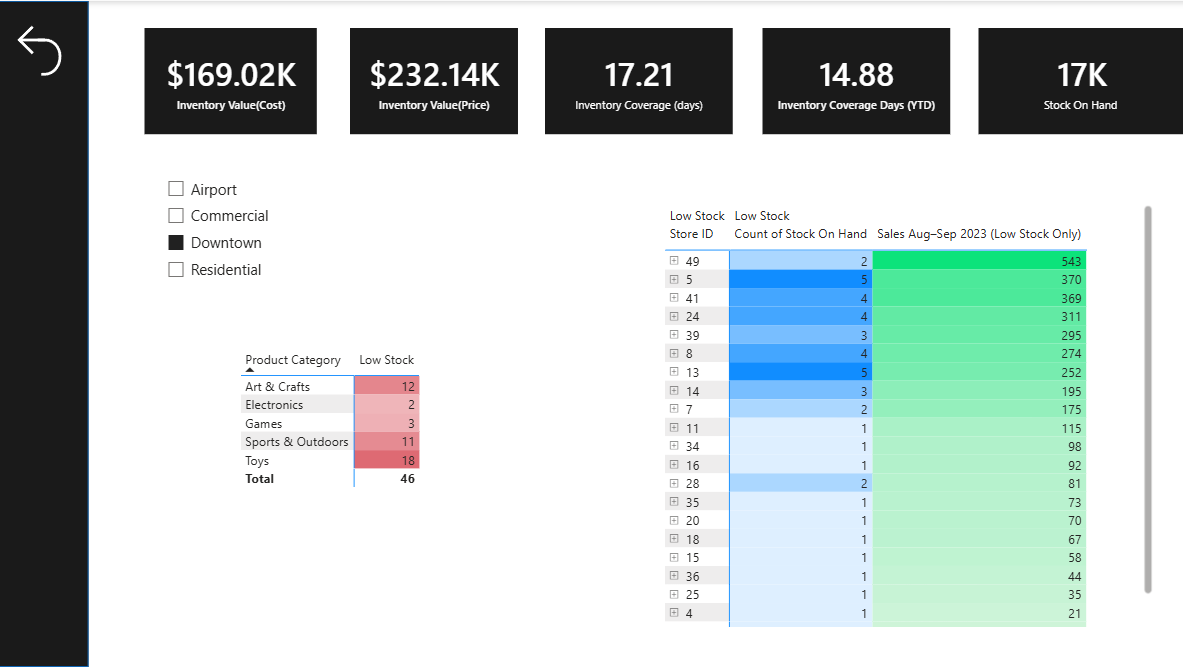

This screenshot's page, from the dashboard's own definition file:
{"tool":"powerbi","page":{"name":"Inventory ","canvas":[1280,720],"ordinal":3},"visuals":[{"type":"pivotTable","fields":{"Values":["CountNonNull(inventory.Stock_On_Hand)","measures Table Dax.Sales Aug–Sep 2023 (Low Stock Only)"],"Columns":["inventory.Low_stock"],"Rows":["stores.Store_ID","stores.Store_Name","products.Product_Name"]},"box":[714.1,215.4,536,464.7],"z":0},{"type":"card","fields":{"Values":["measures Table Dax.Inventory Value(Cost)"]},"box":[157.1,29.1,186.2,115],"z":1000},{"type":"card","fields":{"Values":["measures Table Dax.Inventory Value(Price)"]},"box":[378.9,29.1,181.4,115],"z":2000},{"type":"card","fields":{"Values":["measures Table Dax.Inventory Coverage (days)"]},"box":[589.4,29.1,202.4,115],"z":3000},{"type":"card","fields":{"Values":["measures Table Dax.Stock On Hand (snapshot)"]},"box":[1057.4,29.1,223.5,115],"z":4000},{"type":"card","fields":{"Values":["measures Table Dax.Inventory Coverage Days (YTD)"]},"box":[824.2,29.1,202.4,115],"z":5000},{"type":"shape","box":[0,0,96.7,720],"z":6000},{"type":"actionButton","box":[10,20,75,68.3],"z":7000},{"type":"slicer","fields":{"Values":["stores.Store_Location"]},"box":[170,183,186.2,145.7],"z":8000},{"type":"pivotTable","fields":{"Rows":["products.Product_Category"],"Columns":["inventory.Low_stock"],"Values":["CountNonNull(inventory.Stock_On_Hand)"]},"box":[255.8,370.8,244.5,215.4],"z":9000}]}

Visuals, with their boxes on the page's 1280x720 design canvas (x1, y1, x2, y2). These are canvas units, not pixel positions in the 1183x667 screenshot, which may show the page scaled, cropped or inside an application window:
pivotTable - CountNonNull(inventory.Stock_On_Hand) x measures Table Dax.Sales Aug–Sep 2023 (Low Stock Only): [714, 215, 1250, 680]
card - measures Table Dax.Inventory Value(Cost): [157, 29, 343, 144]
card - measures Table Dax.Inventory Value(Price): [379, 29, 560, 144]
card - measures Table Dax.Inventory Coverage (days): [589, 29, 792, 144]
card - measures Table Dax.Stock On Hand (snapshot): [1057, 29, 1281, 144]
card - measures Table Dax.Inventory Coverage Days (YTD): [824, 29, 1027, 144]
shape: [0, 0, 97, 720]
actionButton: [10, 20, 85, 88]
slicer - stores.Store_Location: [170, 183, 356, 329]
pivotTable - products.Product_Category x inventory.Low_stock: [256, 371, 500, 586]
